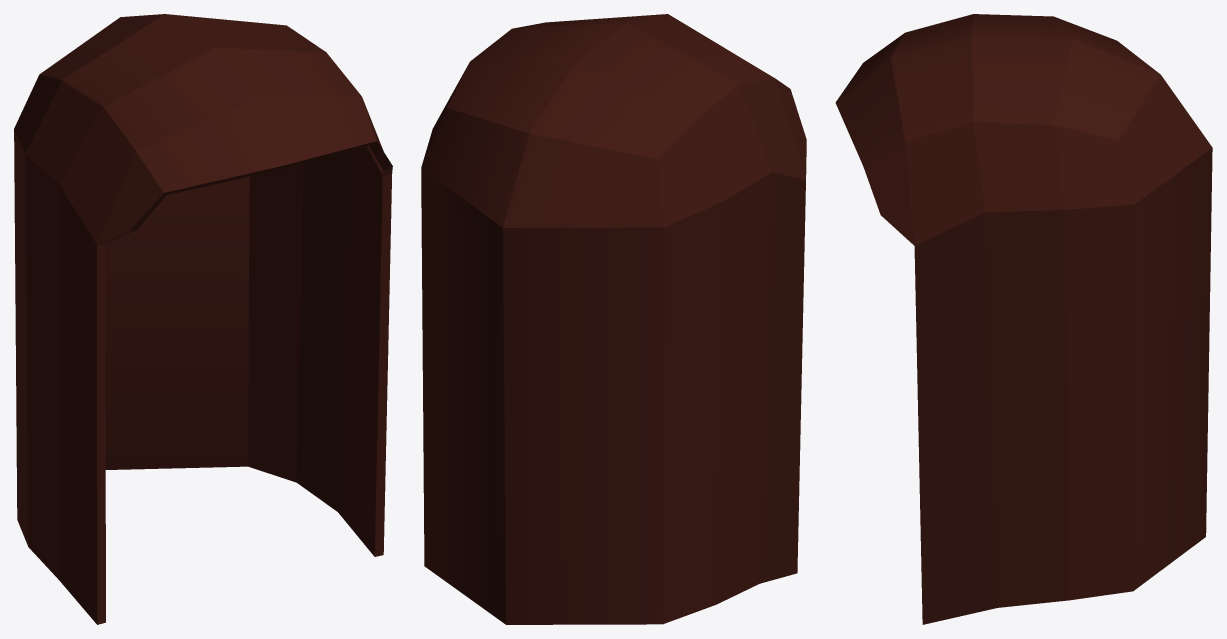
Rendered from hair2.glb.
3 renders of one model, left to right at view 1: azimuth 30°, elevation 25°; view 2: azimuth 150°, elevation 25°; view 3: azimuth 270°, elevation 25°, orthographic. The views are drawn at different scales.
Size of the model in its own units: 0.1675 by 0.2807 by 0.1845.
